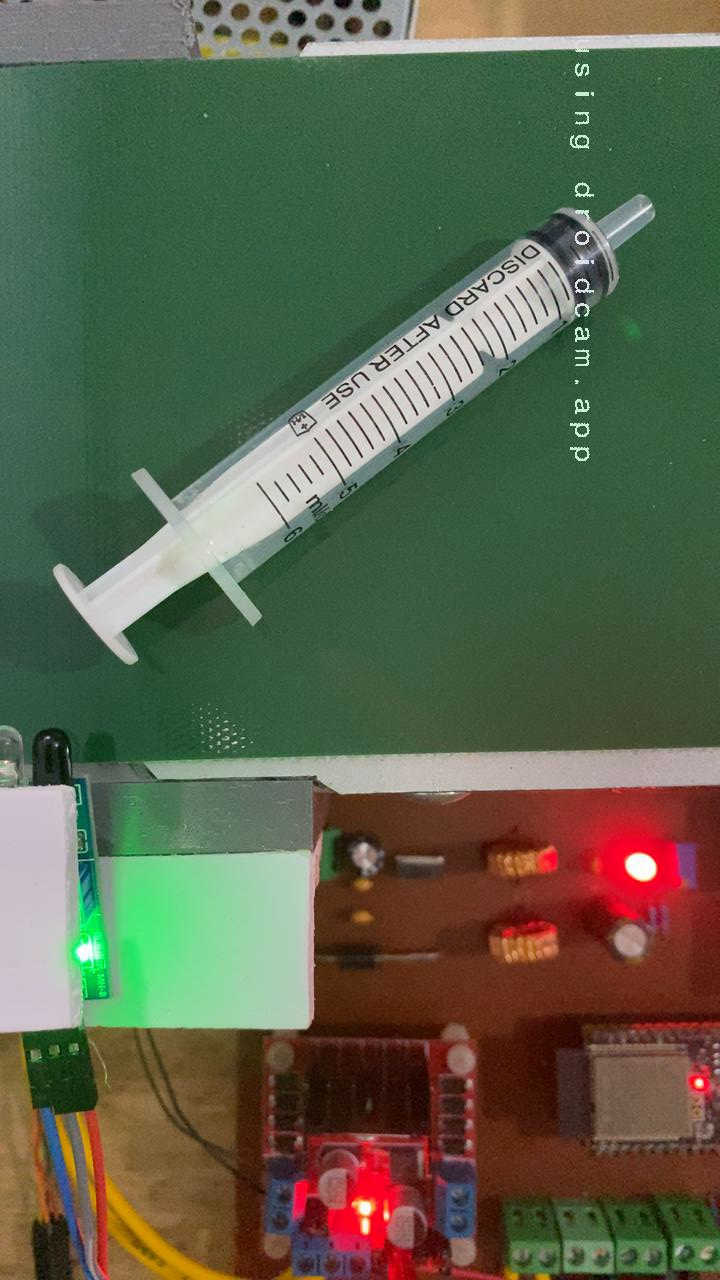syringe: (46, 190, 660, 671)
